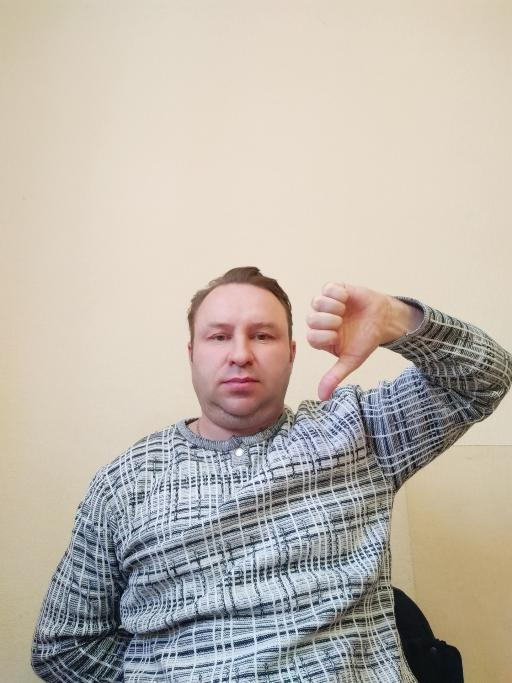dislike: (304, 278, 391, 402)
